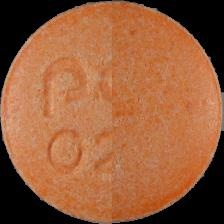0615-0531: (0, 0, 224, 224)
